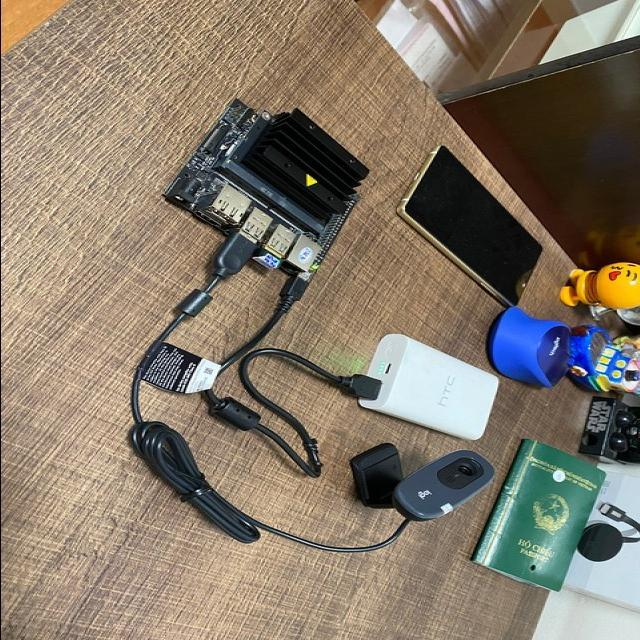Jetson Nano: (166, 96, 371, 283)
